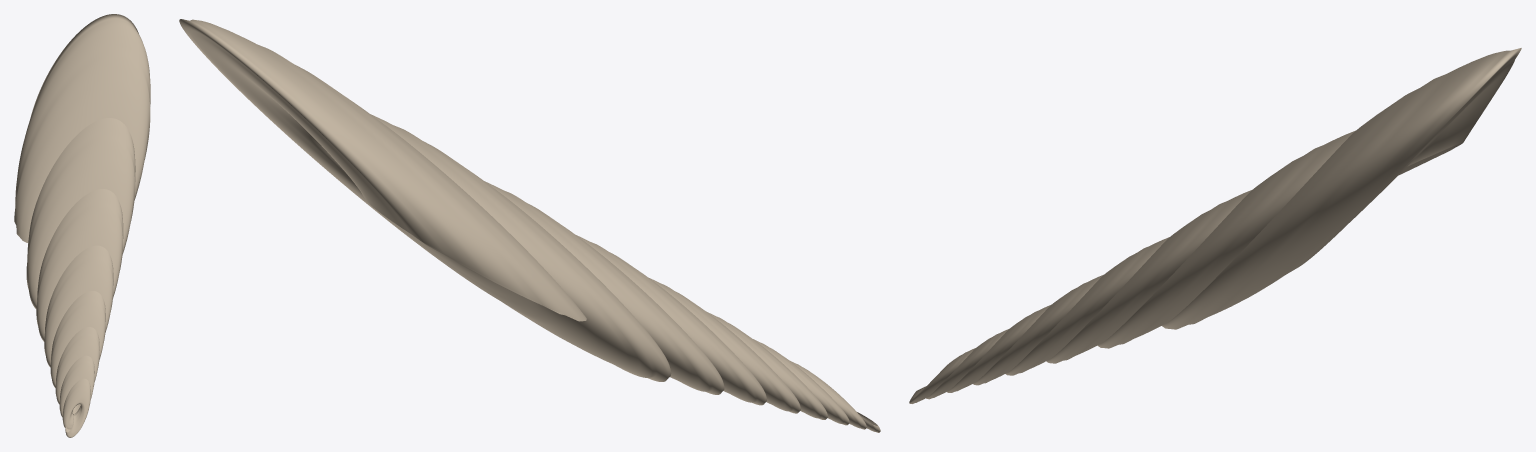
File: 3dcodebench_Conch_seed0.glb
The picture shows the model from 3 angles, left to right: view 1: azimuth 30°, elevation 25°; view 2: azimuth 150°, elevation 25°; view 3: azimuth 270°, elevation 25°; orthographic projection. The views are drawn at different scales.
Parts seen in each view (by area): view 1: object; view 2: object; view 3: object.
Boxes of the visible parts, box(x1,y1,x2,y2) form: object: box(14, 14, 150, 437); object: box(179, 19, 880, 432); object: box(909, 48, 1521, 403).
Bounding box in the file's own units: 1.35 × 1.64 × 1.7.
